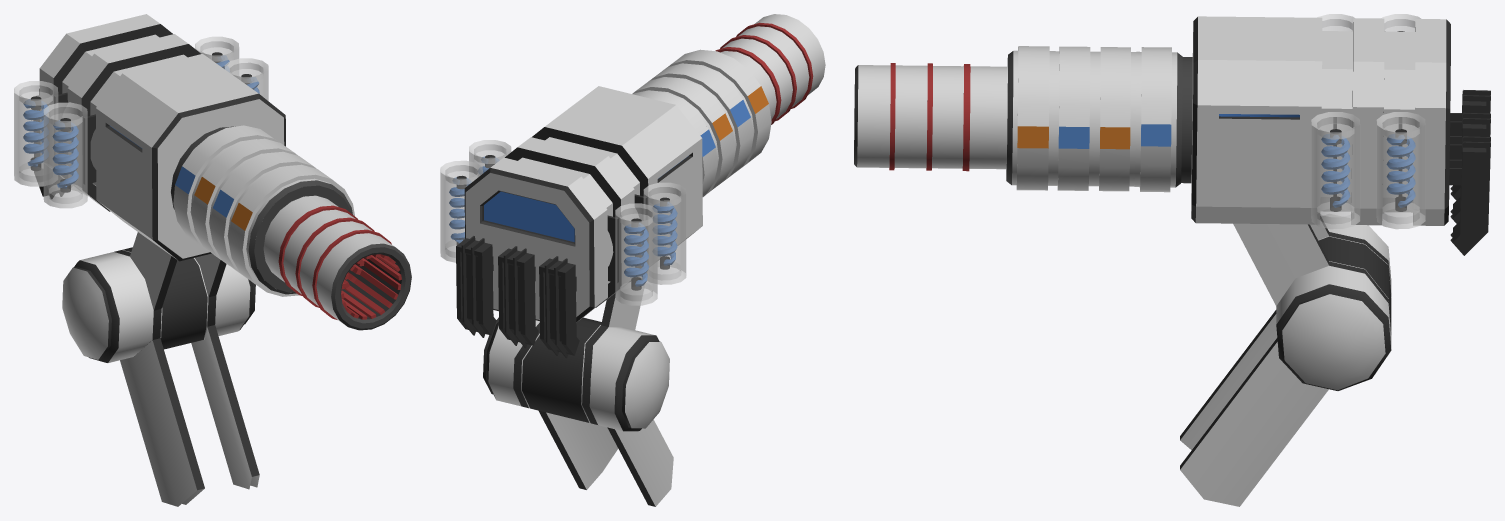
The model's file is tower_eon_cannon_upgrade1_asset.fbx.
3 views of the same model, side by side, from view 1: azimuth 30°, elevation 25°; view 2: azimuth 150°, elevation 25°; view 3: azimuth 270°, elevation 25° (orthographic). The views are drawn at different scales.
Visible parts, largest first — view 1: tower_top, tower_bottom; view 2: tower_top, tower_bottom; view 3: tower_top, tower_bottom.
Part boxes in pixels (box(x1,y1,x2,y2)): tower_top: box(14, 14, 411, 362); tower_bottom: box(120, 325, 259, 506); tower_top: box(440, 14, 825, 431); tower_bottom: box(539, 411, 673, 506); tower_top: box(854, 14, 1490, 390); tower_bottom: box(1180, 310, 1328, 506).
Bounding box in the file's own units: 11.73 × 20.61 × 26.64.
